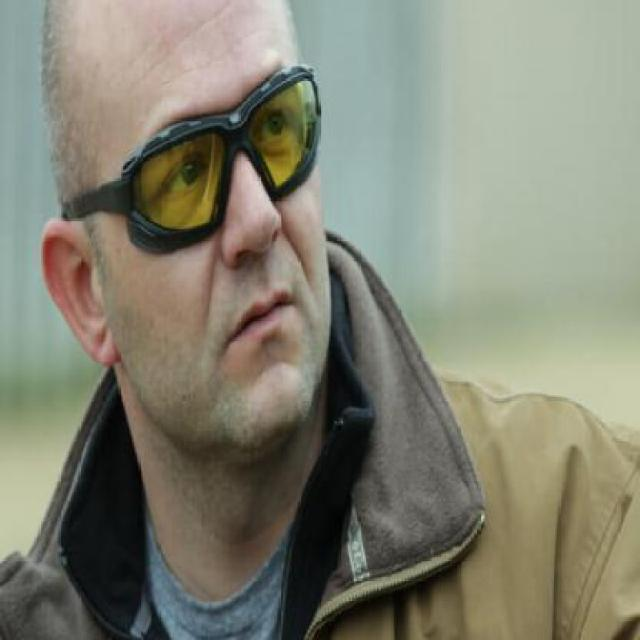face_nomask: (125, 62, 341, 376)
glasses: (113, 60, 324, 242)
